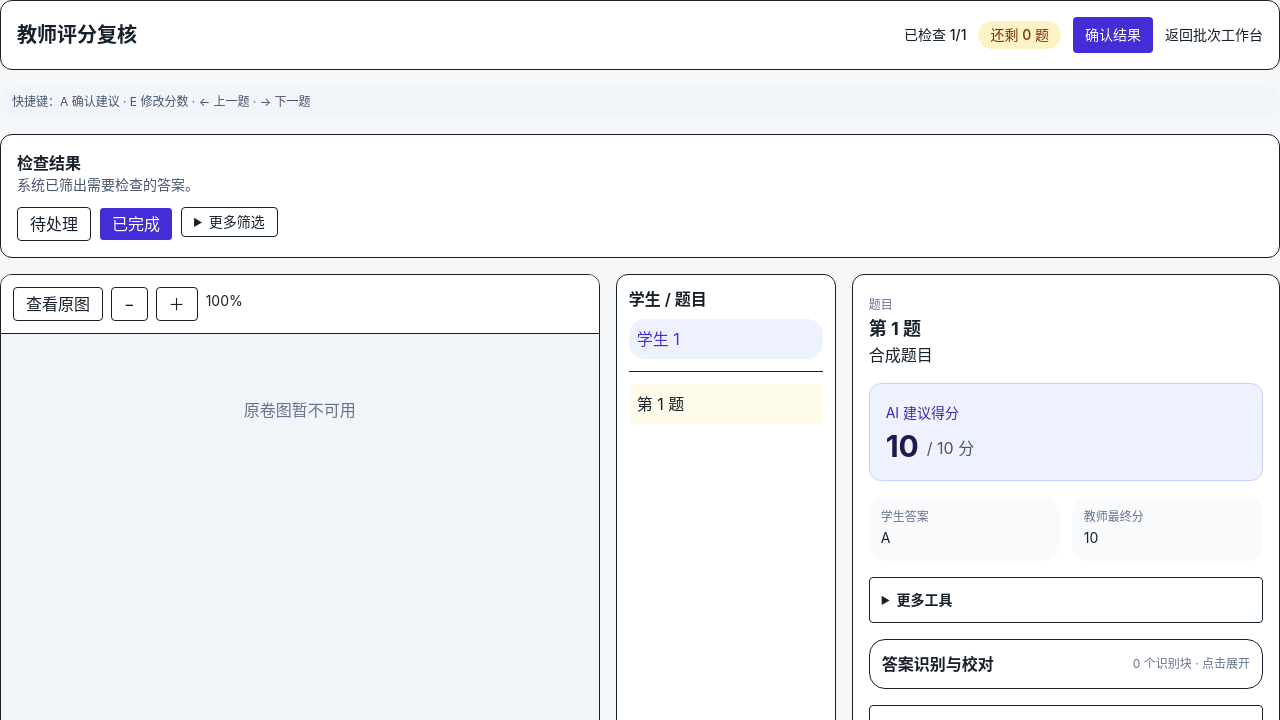
Test: summarizes one reopened submission without presenting another confirmation action
The image size is (1280, 720).
Click the button "确认结果". click: (1113, 35)
box: 1073,17 -> 1153,53
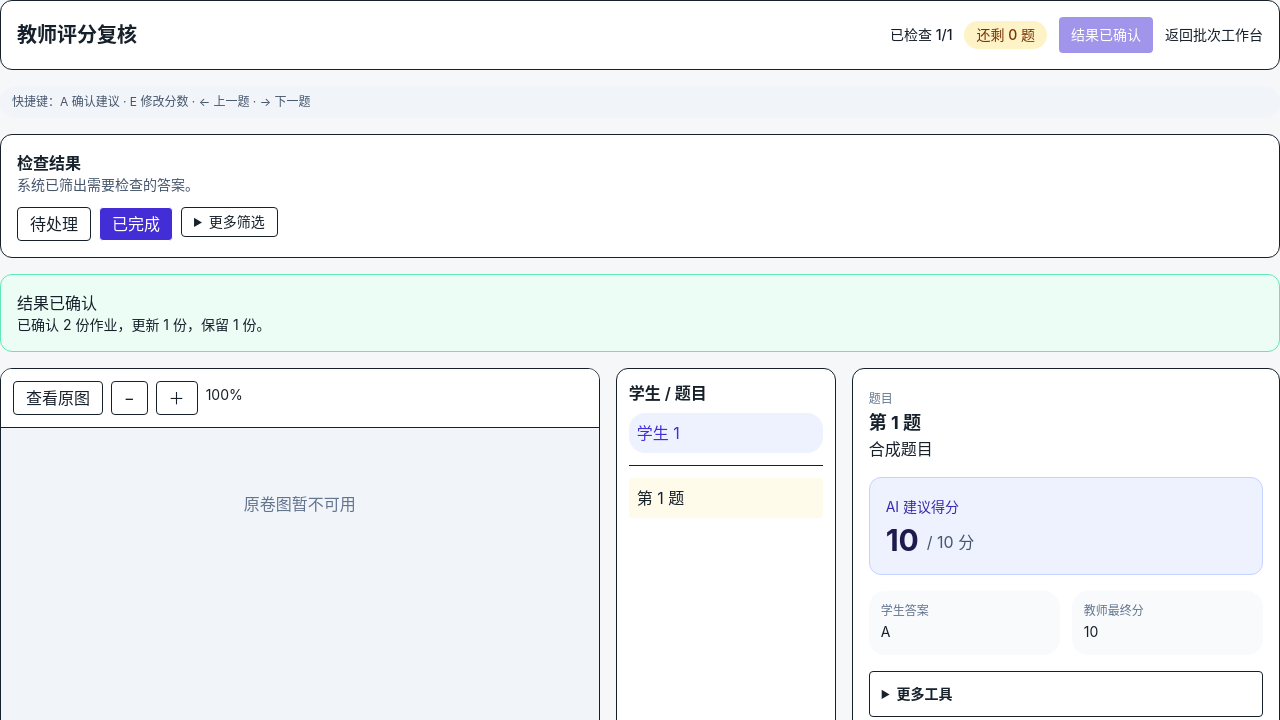
Expected: the element with test id "confirmed-results" shows "更新 1 份，保留 1 份", 131,316 -> 256,333
